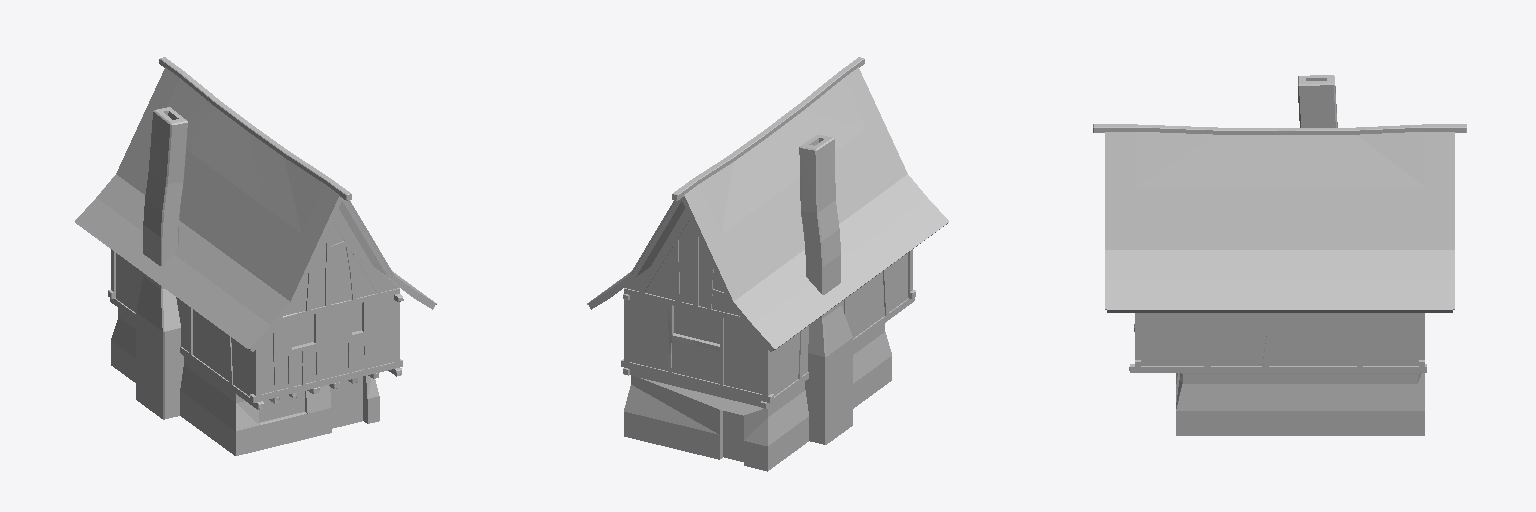
The model's file is cottage.obj.
The picture shows the model from 3 angles: view 1: azimuth 30°, elevation 25°; view 2: azimuth 150°, elevation 25°; view 3: azimuth 270°, elevation 25°; orthographic projection.
Parts seen in each view (by area): view 1: FantasyCottage1.obj; view 2: FantasyCottage1.obj; view 3: FantasyCottage1.obj.
Boxes of the visible parts, x1,y1,x2,y2 form: FantasyCottage1.obj: [75, 57, 436, 455]; FantasyCottage1.obj: [587, 57, 948, 471]; FantasyCottage1.obj: [1093, 75, 1466, 435].
Size of the model in its own units: 7.88 by 11.53 by 13.5.